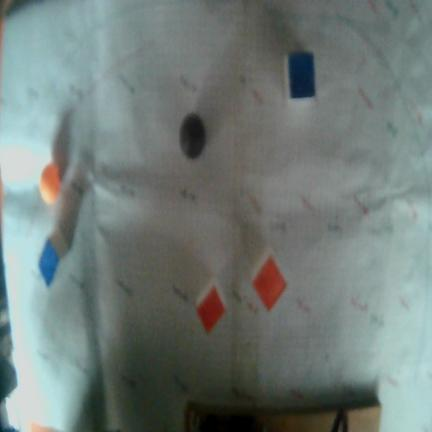circle_blue: (179, 113, 206, 159)
circle_orange: (39, 162, 61, 204)
rectangle_blue: (39, 238, 59, 285)
rectangle_orange: (197, 286, 225, 332)
square_blue: (288, 52, 315, 98)
square_orange: (253, 256, 286, 310)
